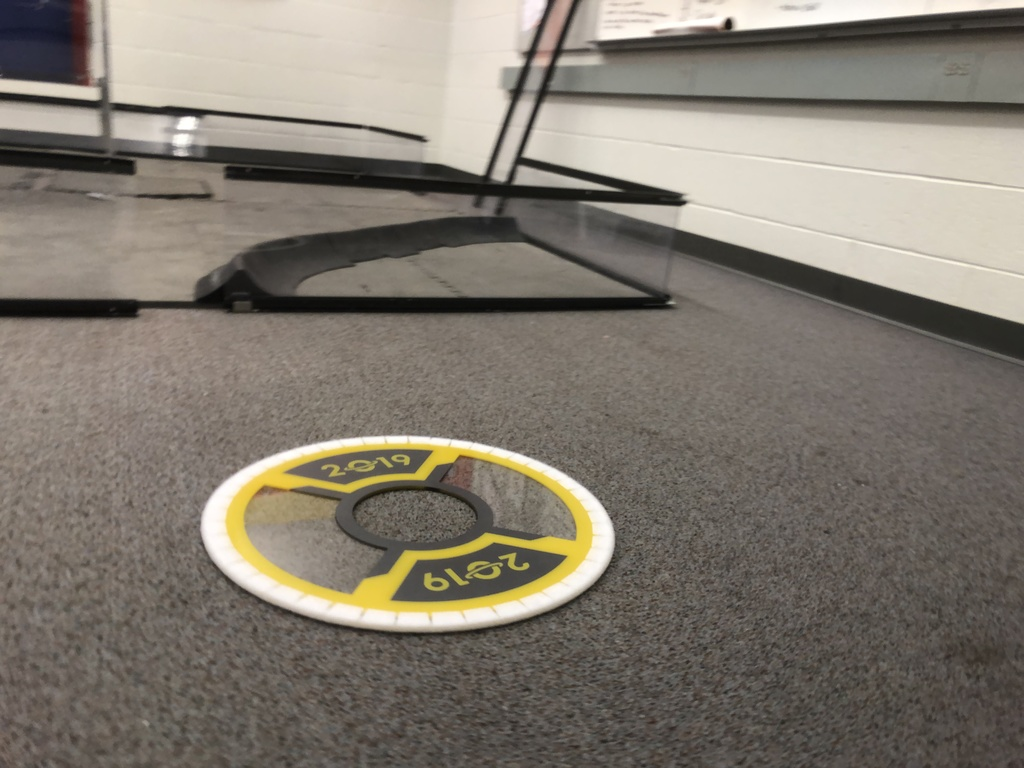hatch_panel: (193, 422, 634, 646)
